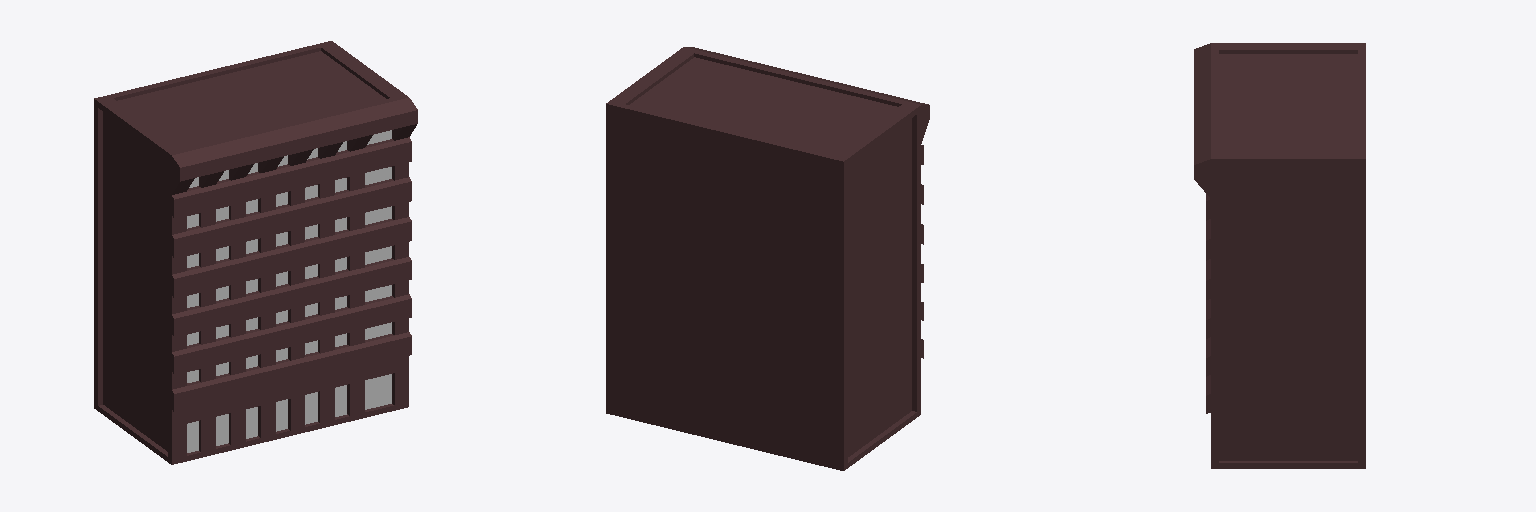
The model's file is Edificio_05.obj.
3 views of the same model, side by side, from view 1: azimuth 30°, elevation 25°; view 2: azimuth 150°, elevation 25°; view 3: azimuth 270°, elevation 25° (orthographic).
Parts seen in each view (by area): view 1: Edificio_01.003_Cube.024; view 2: Edificio_01.003_Cube.024; view 3: Edificio_01.003_Cube.024.
Part boxes in pixels (x1,y1,x2,y2): Edificio_01.003_Cube.024: (94, 41, 417, 464); Edificio_01.003_Cube.024: (606, 47, 929, 470); Edificio_01.003_Cube.024: (1194, 43, 1365, 468).
Size of the model in its own units: 14.34 by 17.85 by 9.02.